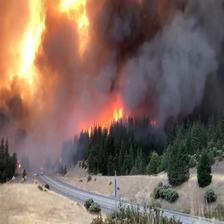fire: (8, 1, 136, 84), (63, 93, 162, 134)
